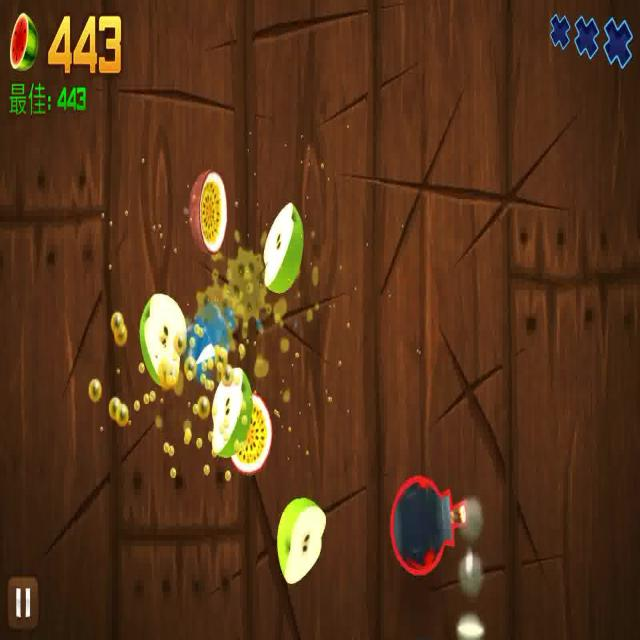bomb: (387, 476, 469, 570)
fruit: (140, 294, 184, 396), (275, 498, 326, 584), (209, 362, 248, 463), (264, 202, 304, 294), (188, 172, 228, 256), (228, 396, 272, 472)
